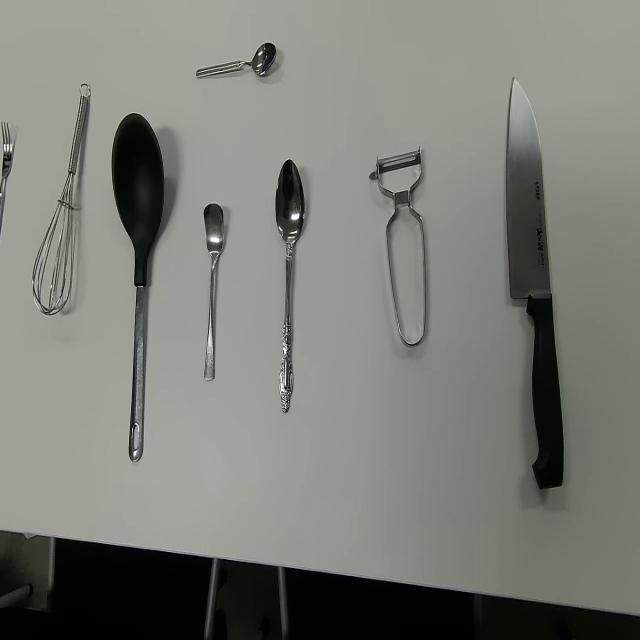Desert-Spoon: (274, 158, 306, 415)
Dinner-Fork: (0, 119, 13, 240)
Kitchen-Knife: (506, 75, 565, 492)
Peeler: (368, 145, 428, 349)
Serving-Spoon: (111, 110, 165, 463)
Tea-Spoon: (203, 201, 224, 381), (195, 40, 277, 80)
Whisk: (31, 82, 91, 316)
